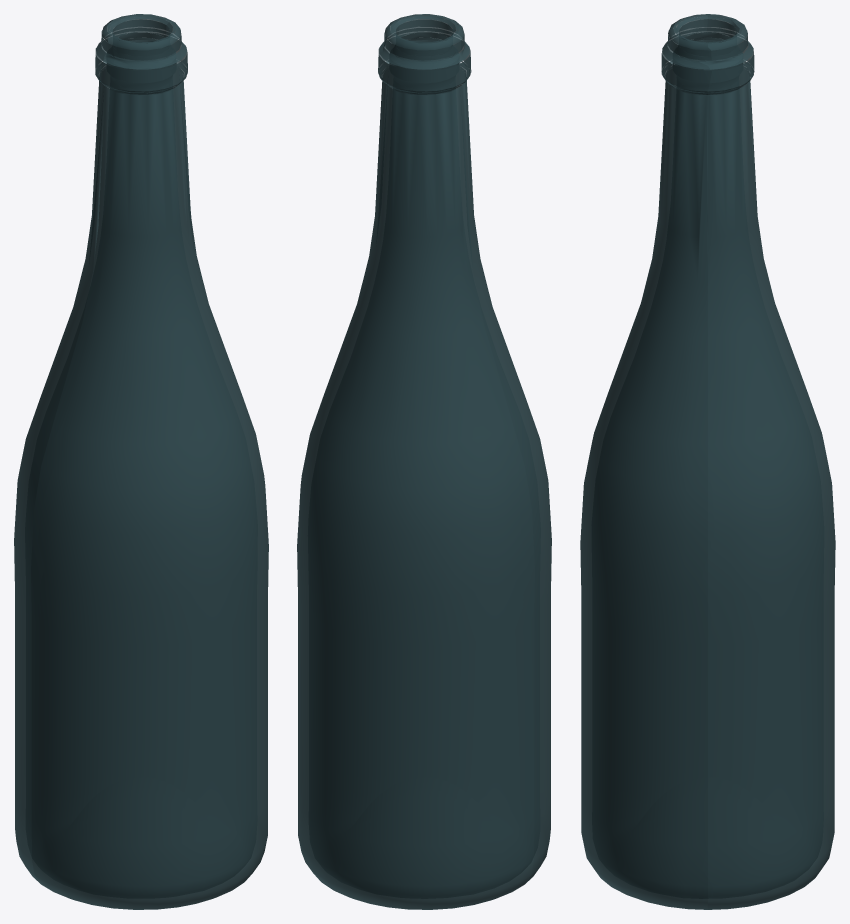
File: Glass_Bottle.glb
The picture shows the model from 3 angles, left to right: view 1: azimuth 30°, elevation 25°; view 2: azimuth 150°, elevation 25°; view 3: azimuth 270°, elevation 25°; orthographic projection.
Parts seen in each view (by area): view 1: BOTTLE MID POLY; view 2: BOTTLE MID POLY; view 3: BOTTLE MID POLY.
Part boxes in pixels (box(x1,y1,x2,y2)): BOTTLE MID POLY: box(14, 14, 268, 909); BOTTLE MID POLY: box(297, 14, 551, 909); BOTTLE MID POLY: box(580, 14, 835, 909).
Bounding box in the file's own units: 6.01 × 21.72 × 6.01.
Materials: 1 (1 with a texture image).
